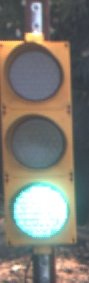Green: (5, 25, 86, 255)
